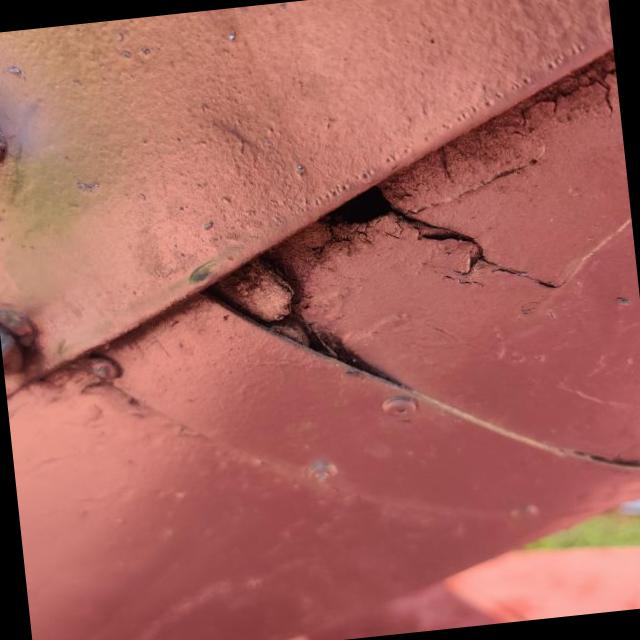Crack: (302, 192, 484, 322)
